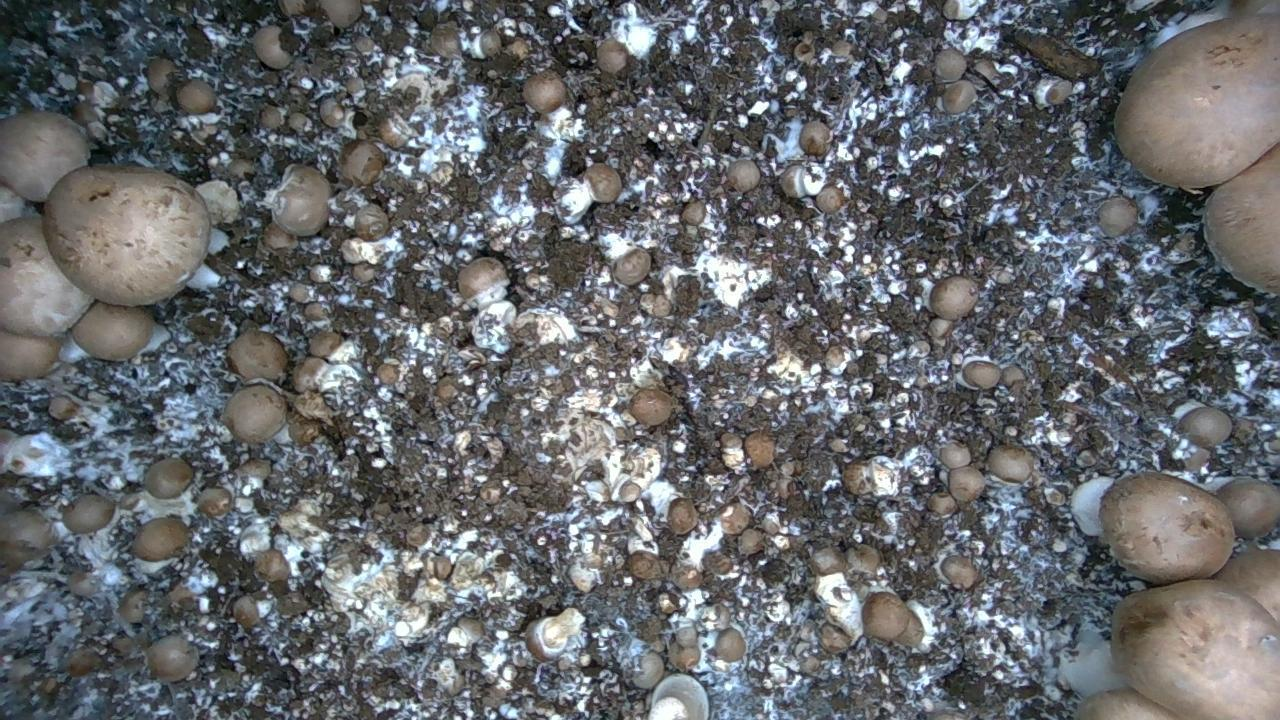BB: (1114, 14, 1279, 187), (43, 165, 210, 305), (1111, 579, 1279, 718), (1099, 473, 1234, 584), (1203, 144, 1279, 293), (0, 217, 92, 336), (0, 110, 89, 201), (72, 302, 153, 360), (1214, 549, 1279, 621), (1215, 478, 1279, 538), (223, 384, 286, 442), (1074, 688, 1180, 719), (0, 510, 53, 571), (227, 329, 287, 379), (648, 674, 708, 719), (133, 516, 189, 561), (146, 635, 197, 681), (862, 592, 911, 639), (1177, 406, 1231, 448), (338, 140, 385, 185), (458, 257, 507, 299), (63, 494, 115, 533), (930, 276, 977, 319), (145, 458, 193, 498), (196, 180, 239, 224), (523, 71, 567, 112), (252, 25, 291, 69), (987, 445, 1032, 482), (1099, 196, 1137, 237), (630, 388, 672, 425), (584, 163, 621, 202), (613, 248, 650, 285), (948, 466, 985, 502), (176, 80, 215, 113), (354, 204, 388, 240), (940, 80, 976, 114), (714, 627, 746, 662), (320, 0, 361, 27), (809, 546, 847, 575), (1033, 79, 1072, 107), (255, 549, 289, 581), (430, 22, 461, 57), (800, 121, 831, 155), (935, 48, 966, 82), (727, 159, 759, 191), (447, 618, 483, 646), (963, 361, 1000, 388), (198, 487, 231, 517), (597, 39, 627, 72), (288, 415, 321, 445), (819, 623, 851, 653), (628, 551, 662, 579), (720, 503, 750, 534), (720, 433, 745, 468), (119, 590, 146, 622), (59, 332, 86, 363), (48, 395, 79, 420), (681, 200, 706, 225), (208, 228, 229, 254), (278, 0, 307, 16), (1125, 0, 1160, 13)
